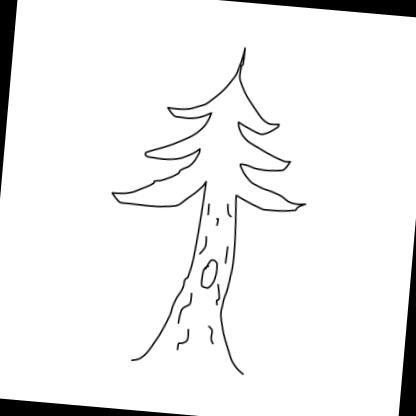trunk_bark: (163, 215, 239, 331)
